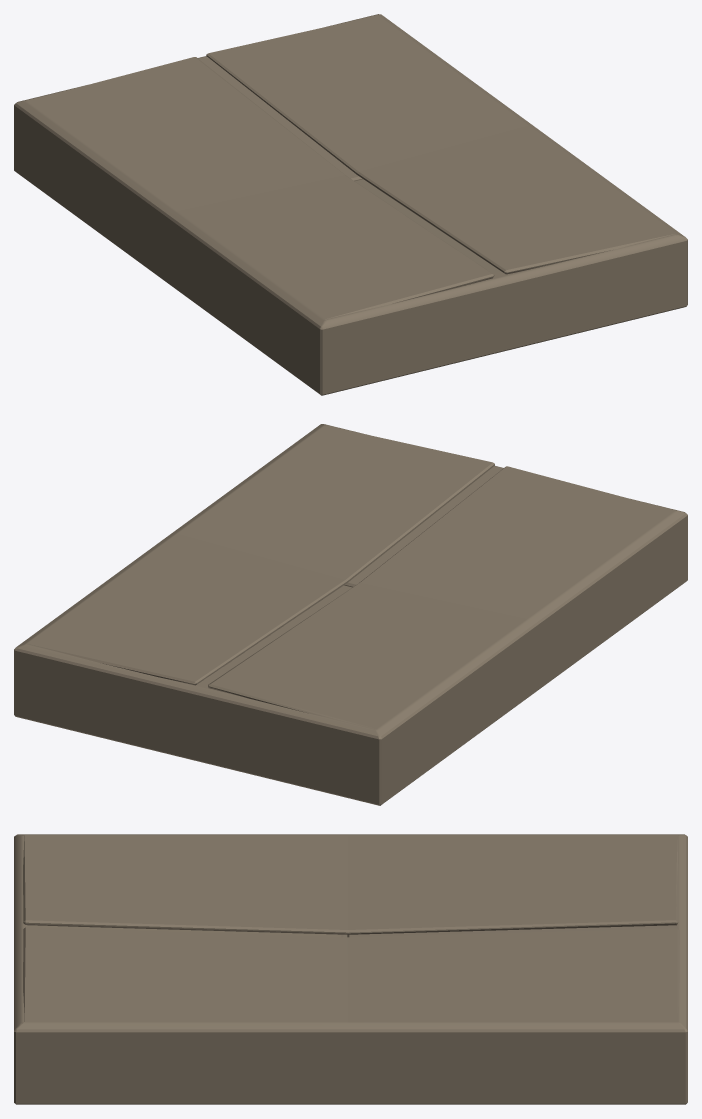
Rendered from A4D_CloseBox.fbx.
3 renders of one model, top to bottom at view 1: azimuth 30°, elevation 25°; view 2: azimuth 150°, elevation 25°; view 3: azimuth 270°, elevation 25°, orthographic. The views are drawn at different scales.
Parts seen in each view (by area): view 1: pCube7; view 2: pCube7; view 3: pCube7.
Boxes of the visible parts, left/top/right/bottom form: pCube7: left=14, top=14, right=687, bottom=395; pCube7: left=14, top=424, right=687, bottom=805; pCube7: left=14, top=834, right=687, bottom=1104.
Size of the model in its own units: 1.6 by 0.3181 by 2.32.
